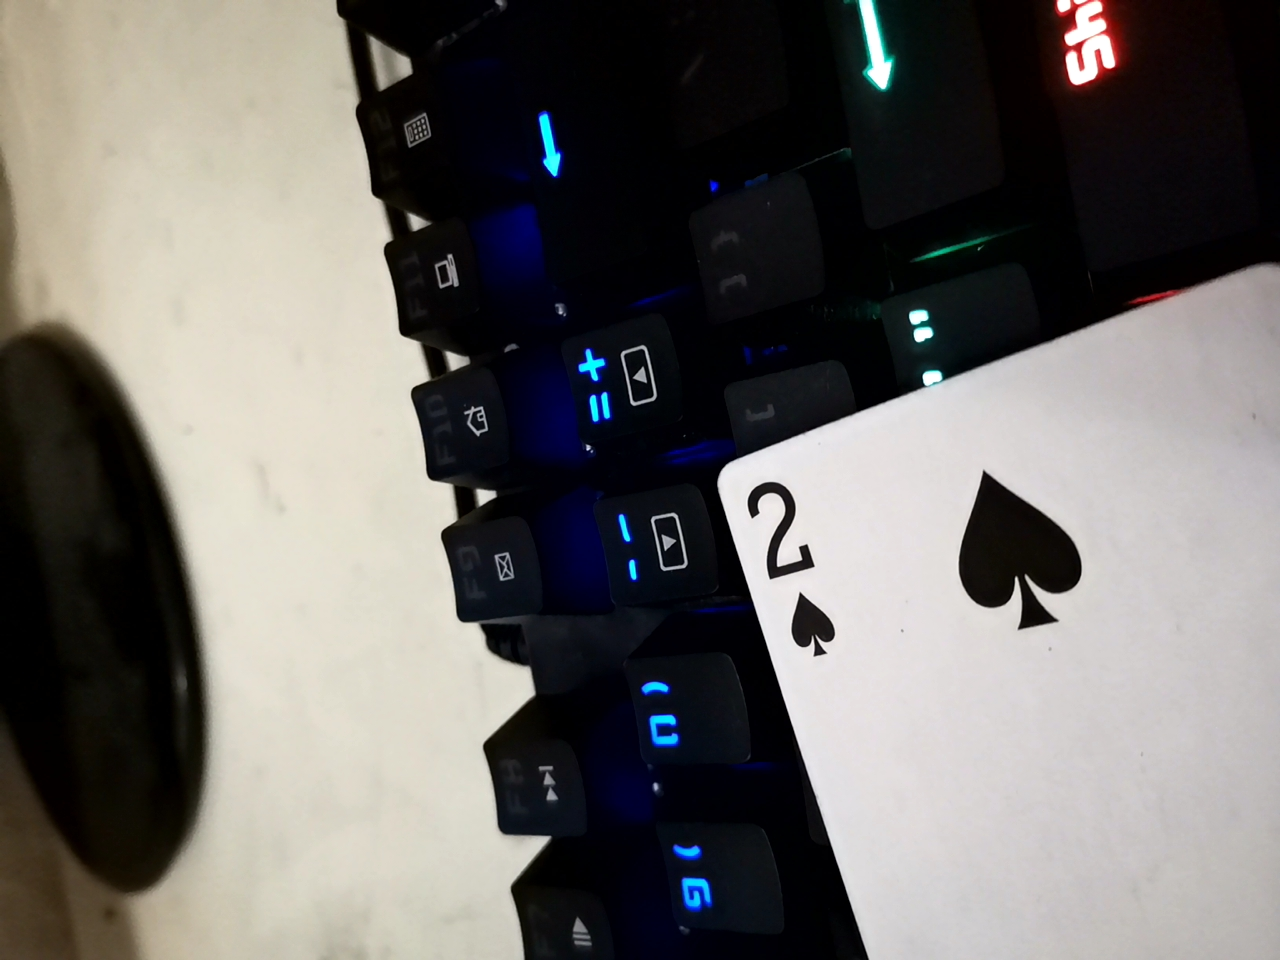ht 2: (690, 210, 1273, 956)
